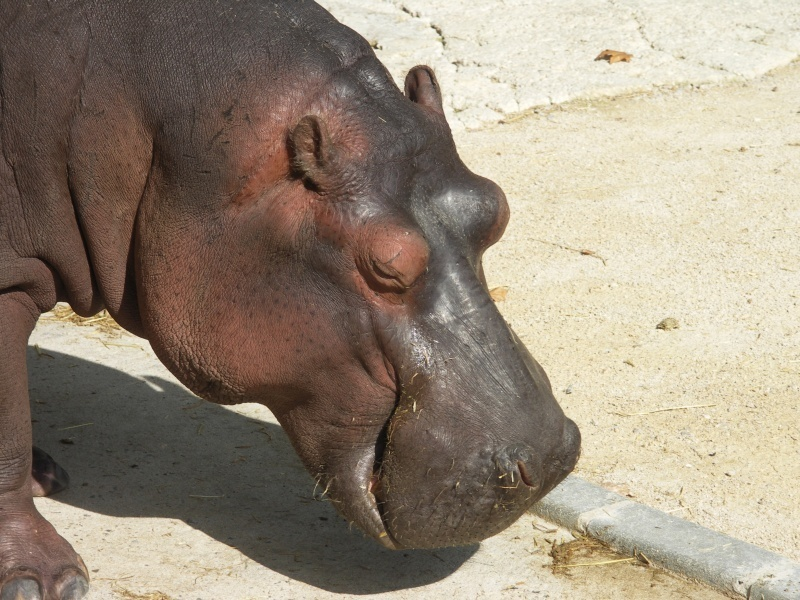hipopotamo: (0, 2, 585, 594)
